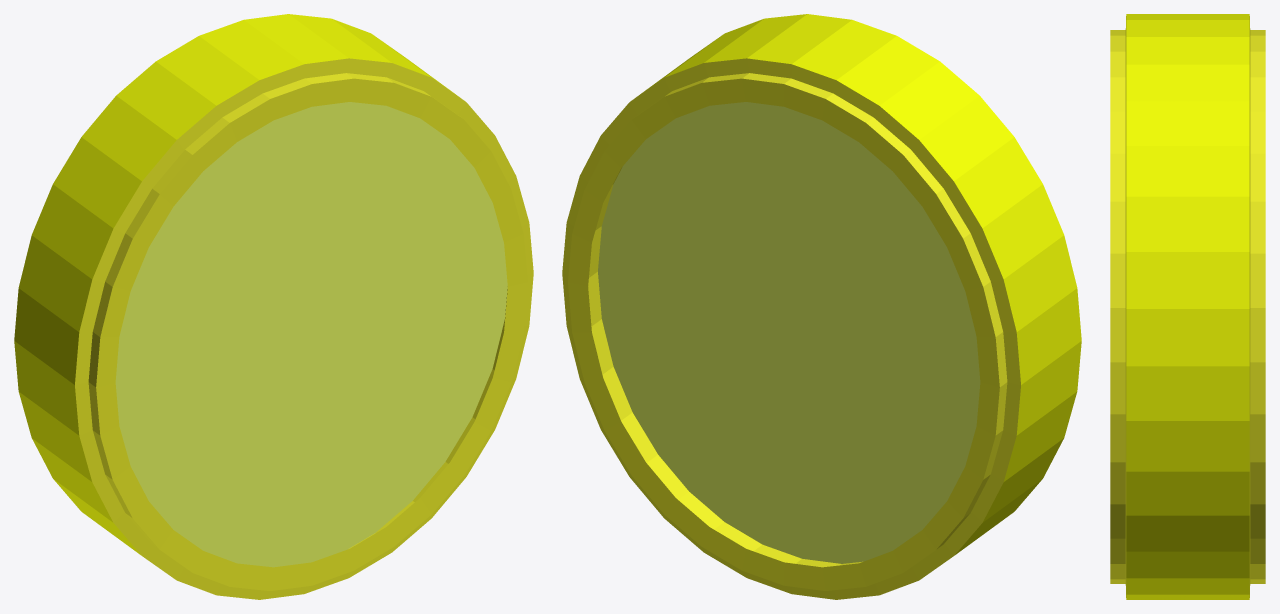
The model's file is Coin.fbx.
The picture shows the model from 3 angles, left to right: view 1: azimuth 30°, elevation 25°; view 2: azimuth 150°, elevation 25°; view 3: azimuth 270°, elevation 25°; orthographic projection.
Visible parts, largest first — view 1: Cylinder; view 2: Cylinder; view 3: Cylinder.
Boxes of the visible parts, x1,y1,x2,y2 form: Cylinder: (14, 14, 533, 599); Cylinder: (562, 14, 1081, 599); Cylinder: (1110, 14, 1265, 599).
Bounding box in the file's own units: 71.16 × 78.52 × 20.46.
